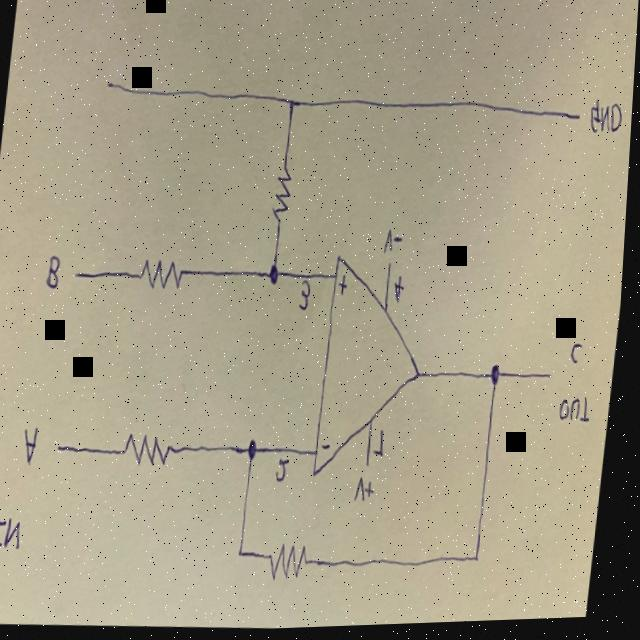junction: (486, 357, 514, 399), (263, 256, 290, 297), (279, 88, 306, 126), (246, 433, 269, 474), (471, 545, 490, 578), (238, 543, 255, 569)
resistor: (119, 427, 183, 472), (135, 254, 196, 295), (270, 542, 320, 587), (268, 163, 301, 231)
terminal: (96, 72, 131, 105), (72, 264, 102, 288), (537, 368, 564, 394), (565, 110, 588, 136), (57, 437, 82, 459)
text: (586, 97, 627, 146), (0, 510, 31, 555), (561, 396, 598, 433), (22, 418, 47, 469), (43, 252, 69, 295), (568, 340, 591, 375), (383, 227, 407, 260), (275, 457, 297, 492), (376, 426, 395, 466), (358, 478, 381, 510), (298, 280, 315, 318), (393, 276, 410, 309), (338, 276, 352, 304), (323, 441, 336, 460)
